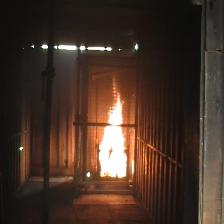fire: (100, 98, 128, 178)
